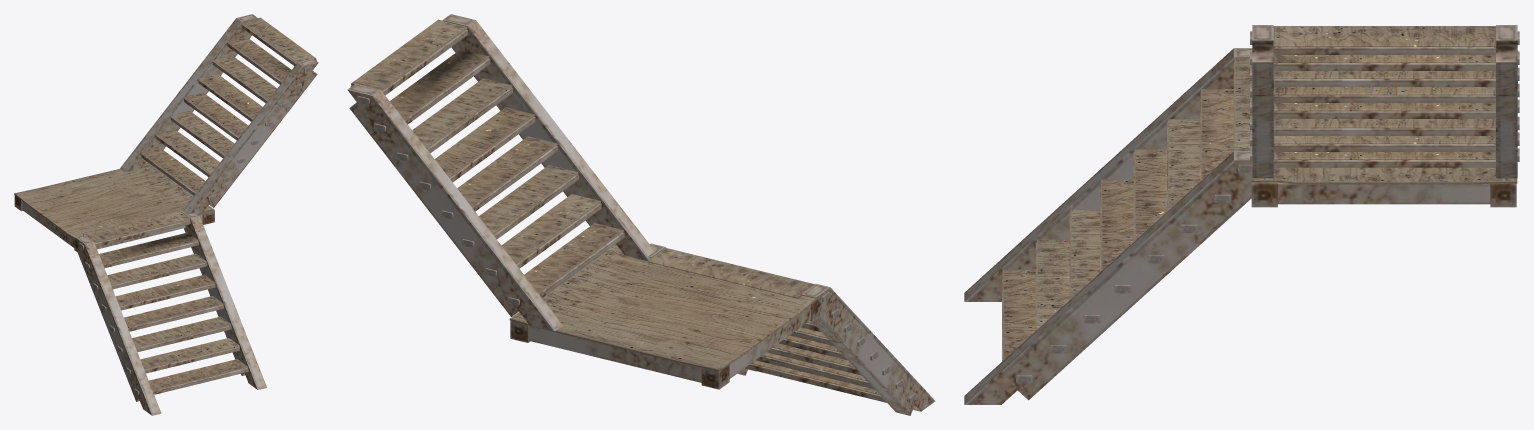
File: block.stair.lshape.container.glb
3 renders of one model, left to right at view 1: azimuth 30°, elevation 25°; view 2: azimuth 150°, elevation 25°; view 3: azimuth 270°, elevation 25°, orthographic. The views are drawn at different scales.
Parts seen in each view (by area): view 1: block.stair.simple (2), block.stair.simple (3), block.stair.landing.150x150 (1); view 2: block.stair.simple (3), block.stair.landing.150x150 (1), block.stair.simple (2); view 3: block.stair.simple (2), block.stair.simple (3), block.stair.landing.150x150 (1).
Part boxes in pixels (x1,y1,x2,y2): block.stair.simple (2): (75,211,266,415); block.stair.simple (3): (120,14,318,214); block.stair.landing.150x150 (1): (14,161,214,251); block.stair.simple (3): (347,14,654,331); block.stair.landing.150x150 (1): (509,244,820,389); block.stair.simple (2): (648,243,935,415); block.stair.simple (2): (964,48,1252,404); block.stair.simple (3): (1250,25,1519,178); block.stair.landing.150x150 (1): (1251,65,1517,207).
Bounding box in the file's own units: 3.17 × 3.03 × 3.14.
Materials: 2 (2 with a texture image).
